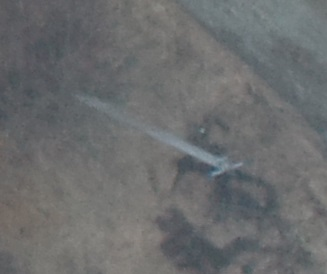opora: (75, 84, 245, 181)
